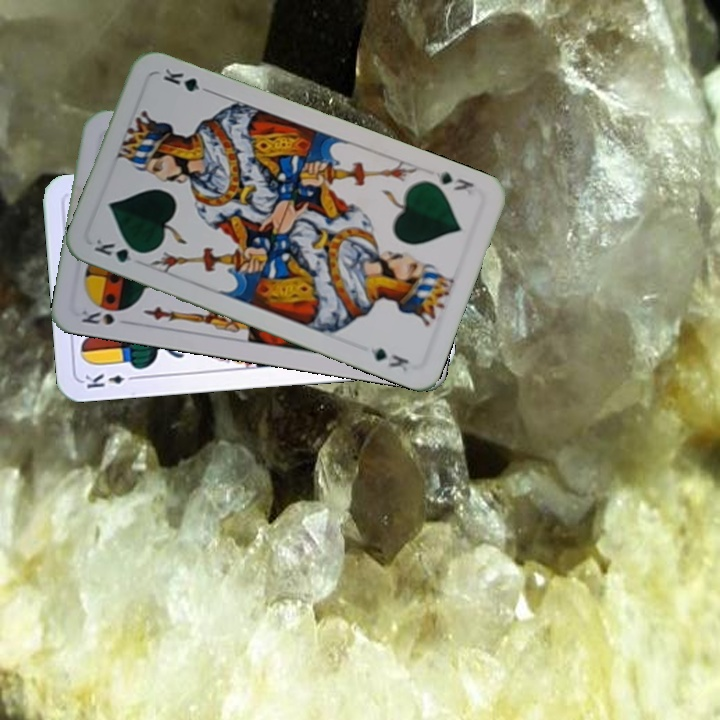EK: (81, 370, 140, 391)
GK: (90, 235, 148, 266), (432, 167, 476, 199)
SK: (77, 301, 129, 328)
